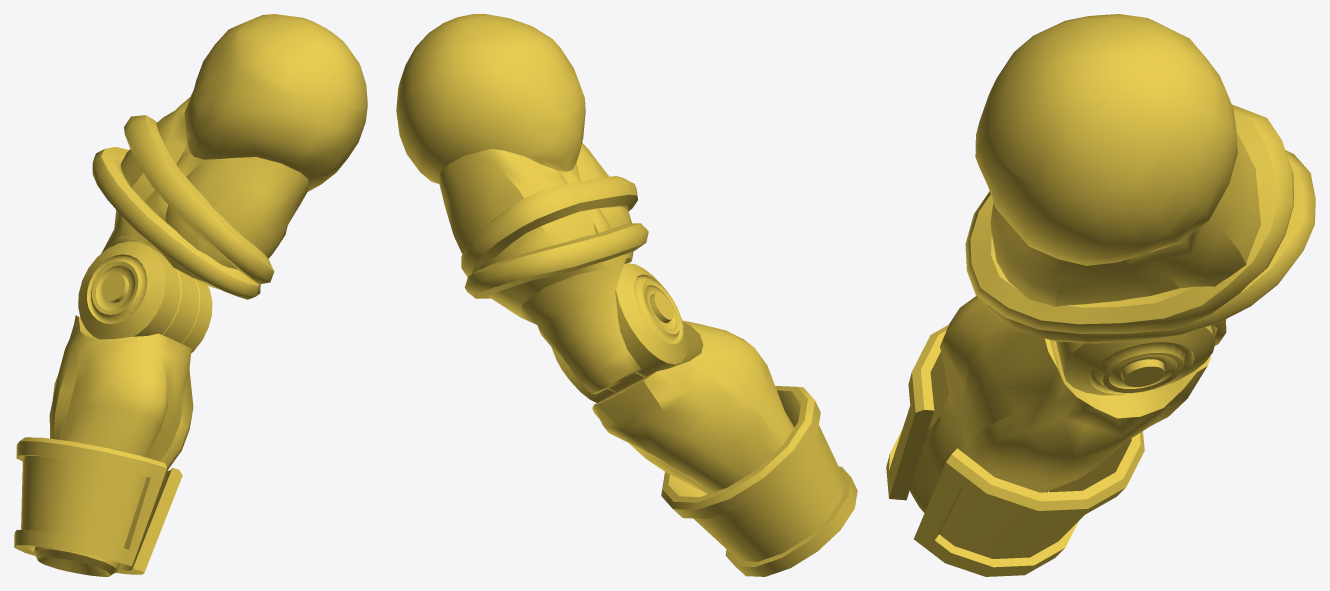
The model's file is armR.fbx.
The picture shows the model from 3 angles, left to right: view 1: azimuth 30°, elevation 25°; view 2: azimuth 150°, elevation 25°; view 3: azimuth 270°, elevation 25°; orthographic projection. The views are drawn at different scales.
Visible parts, largest first — view 1: matte_0.002, matte_1.004, metalic_1.001, metalic_0.001, submetalic_0.001; view 2: matte_0.002, matte_1.004, metalic_1.001, metalic_0.001, submetalic_0.001; view 3: matte_0.002, matte_1.004, metalic_0.001, metalic_1.001, submetalic_0.001.
Boxes of the visible parts, x1,y1,x2,y2 form: matte_0.002: (101, 14, 367, 289); matte_1.004: (34, 315, 193, 576); metalic_1.001: (14, 437, 182, 574); metalic_0.001: (92, 115, 274, 299); submetalic_0.001: (78, 241, 212, 353); matte_0.002: (396, 14, 640, 394); matte_1.004: (592, 320, 794, 494); metalic_1.001: (661, 386, 857, 576); metalic_0.001: (461, 176, 648, 298); submetalic_0.001: (551, 263, 687, 402); matte_0.002: (975, 14, 1260, 345); matte_1.004: (910, 296, 1210, 512); metalic_0.001: (965, 104, 1315, 343); metalic_1.001: (886, 324, 1144, 576); submetalic_0.001: (1056, 325, 1215, 395).
Size of the model in its own units: 1107 by 759 by 1349.
